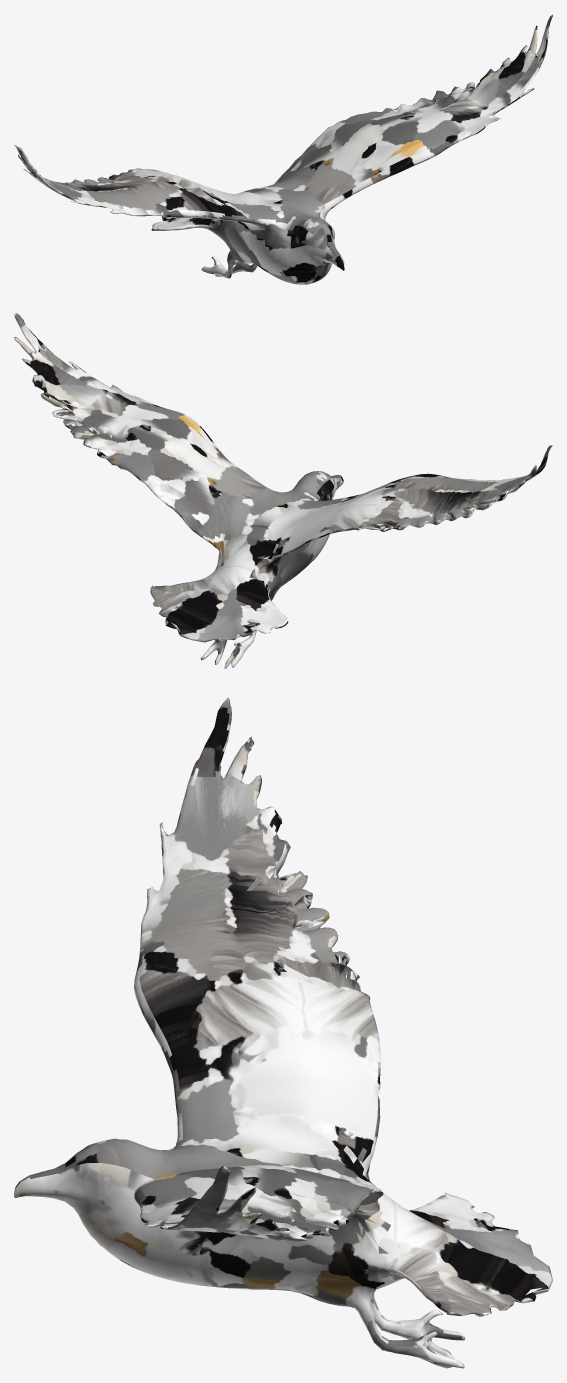
Rendered from seagul1.glb.
3 views of the same model, one above another, from view 1: azimuth 30°, elevation 25°; view 2: azimuth 150°, elevation 25°; view 3: azimuth 270°, elevation 25° (orthographic). The views are drawn at different scales.
Size of the model in its own units: 1.93 by 0.8293 by 0.9363.
Materials: 1 (1 with a texture image).
